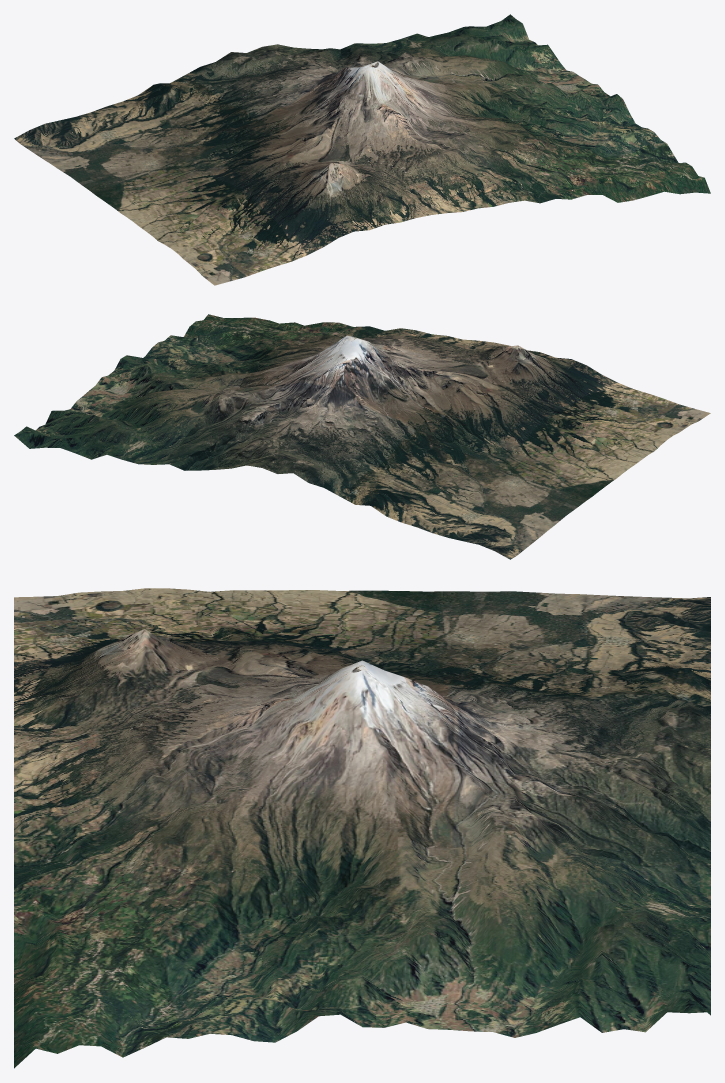
File: pico_orizaba_v2.glb
3 views of the same model, one above another, from view 1: azimuth 30°, elevation 25°; view 2: azimuth 150°, elevation 25°; view 3: azimuth 270°, elevation 25° (orthographic). The views are drawn at different scales.
Visible parts, largest first — view 1: EXPORT_GOOGLE_SAT_WM; view 2: EXPORT_GOOGLE_SAT_WM; view 3: EXPORT_GOOGLE_SAT_WM.
Part boxes in pixels (x1,y1,x2,y2): EXPORT_GOOGLE_SAT_WM: [14, 14, 710, 285]; EXPORT_GOOGLE_SAT_WM: [14, 314, 710, 559]; EXPORT_GOOGLE_SAT_WM: [14, 588, 710, 1068].
Size of the model in its own units: 24460 by 5456 by 17122.
Materials: 1 (1 with a texture image).
